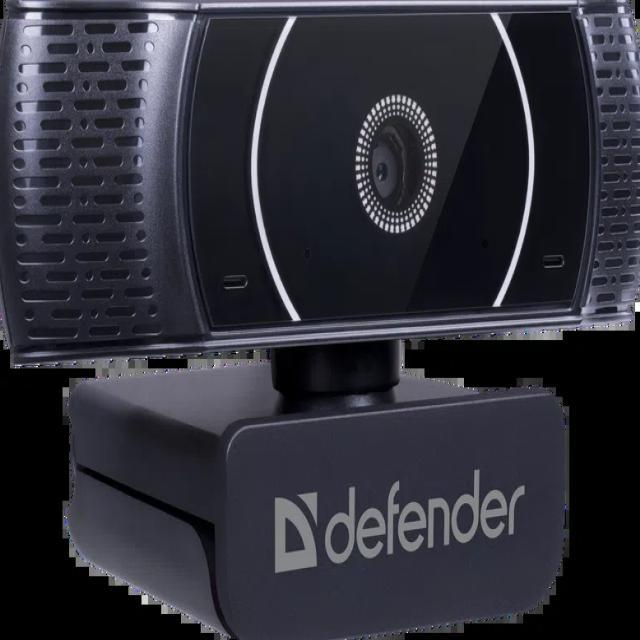hidden camera: (345, 83, 452, 248)
